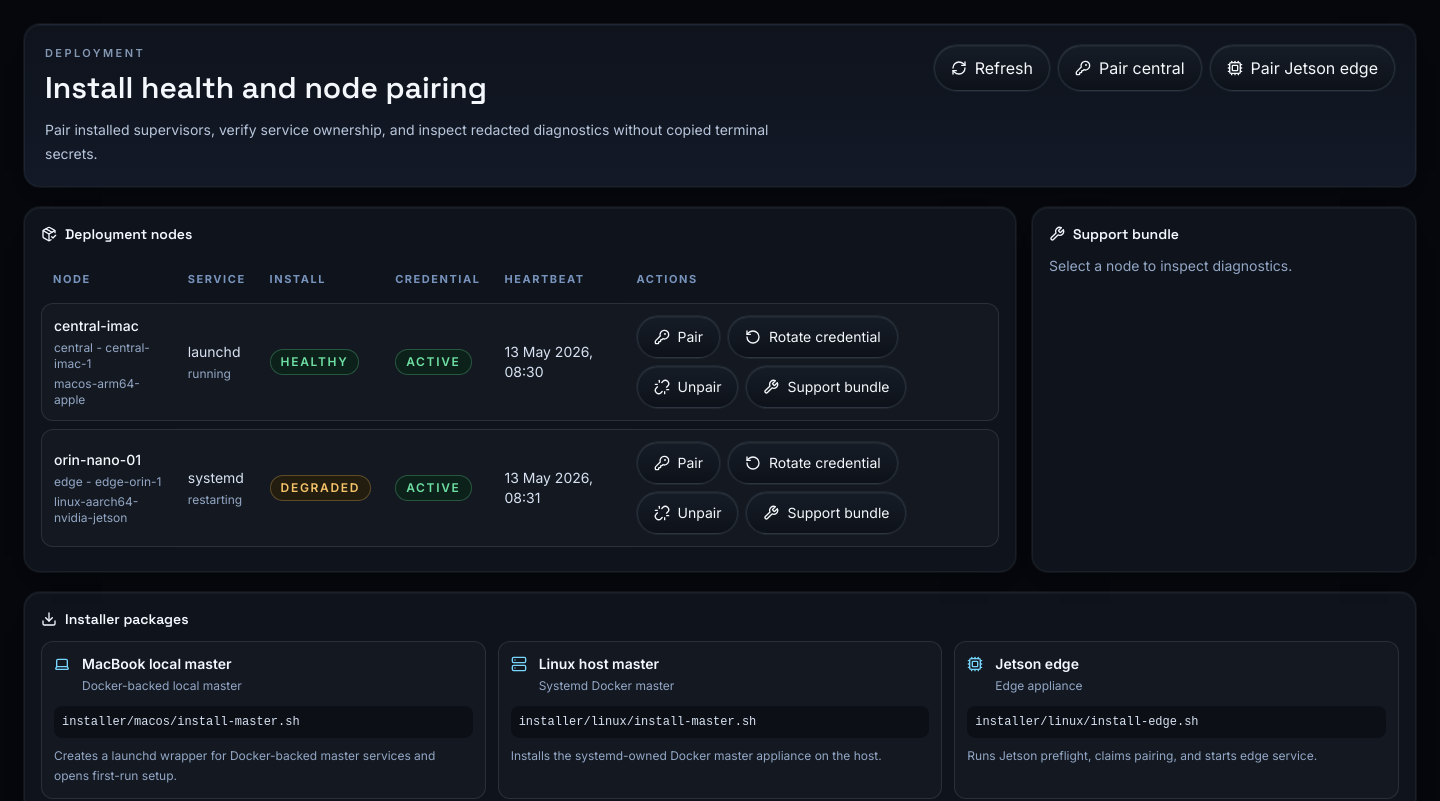
Scenario: DeploymentPage › rotates node credentials with a one-time pickup warning
Click the button "Rotate credential" in the row of "orin-nano-01". click: [813, 463]
box: [728,442,898,484]
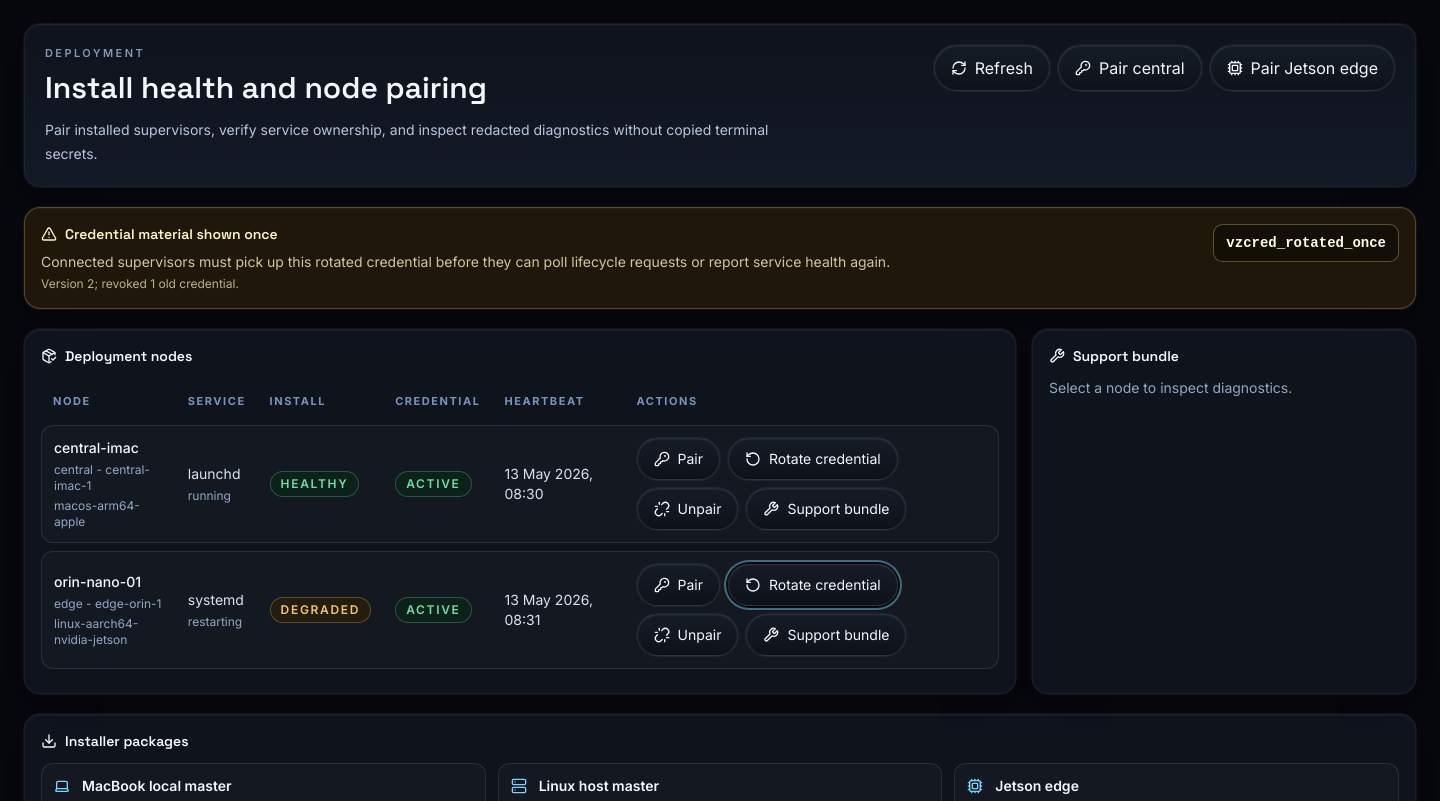
Expected: the heading "Credential material shown once" is shown, [65,224,278,244]
Expected: the text "vzcred_rotated_once" is shown, [1213,224,1399,262]
Expected: the text "Connected supervisors must pick up" is shown, [41,252,890,270]
